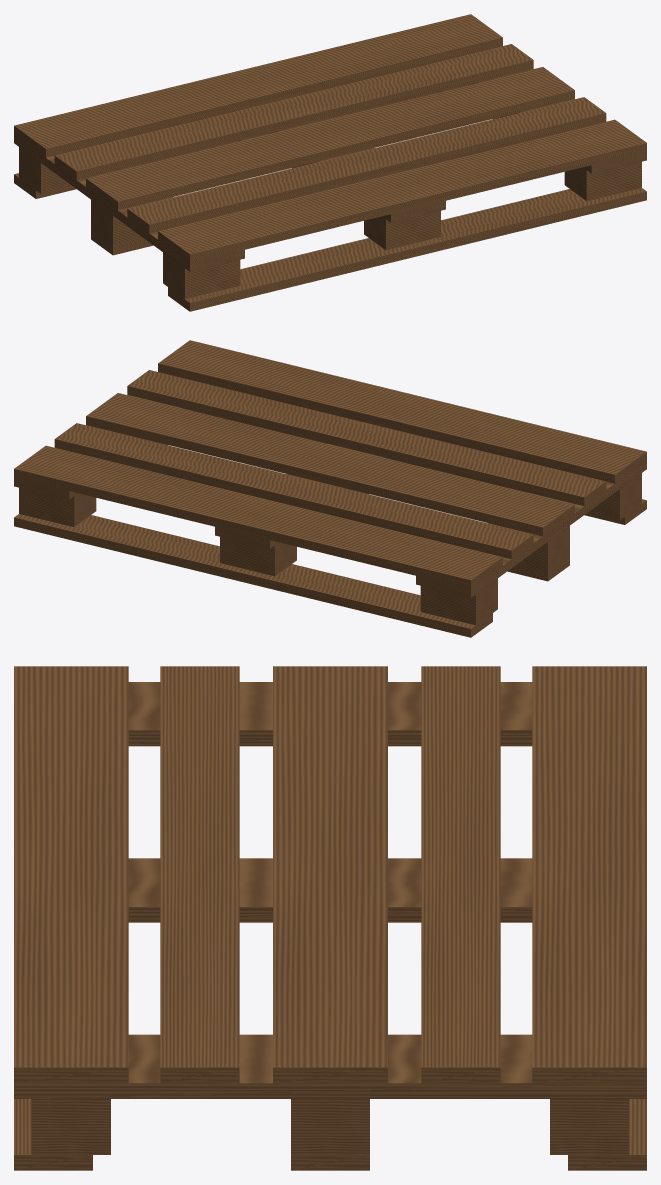
File: pallet_L1.glb
3 renders of one model, top to bottom at view 1: azimuth 30°, elevation 25°; view 2: azimuth 150°, elevation 25°; view 3: azimuth 270°, elevation 25°, orthographic. The views are drawn at different scales.
Parts seen in each view (by area): view 1: pallet:plank; view 2: pallet:plank; view 3: pallet:plank.
Boxes of the visible parts, x1,y1,x2,y2 form: pallet:plank: (14, 14, 646, 311); pallet:plank: (14, 340, 646, 637); pallet:plank: (14, 666, 646, 1170).
Bounding box in the file's own units: 1.2 × 0.144 × 0.8.
1 material, 1 textured.
